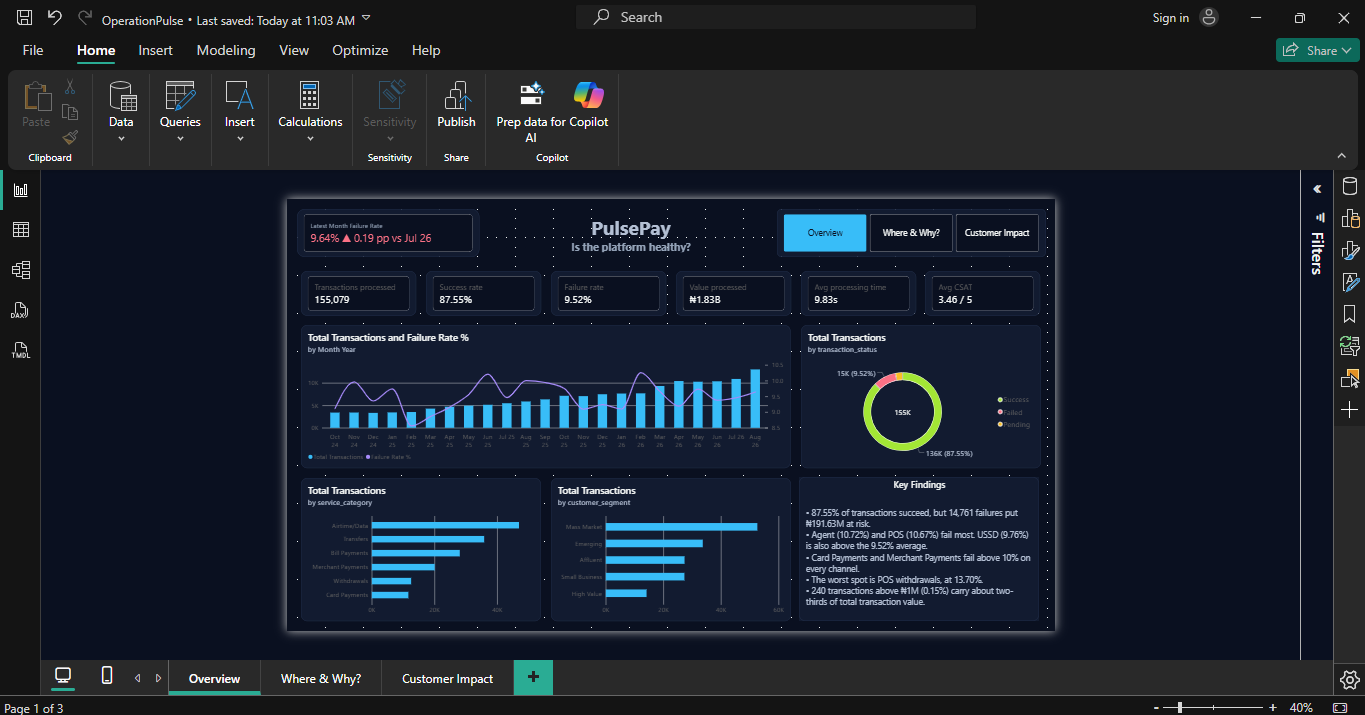

Layout of this report page (visuals, bound fields, positions):
{"tool":"powerbi","page":{"name":"Overview","canvas":[1920,1080],"ordinal":0},"visuals":[{"type":"cardVisual","fields":{"Data":["transactions.Transactions processed"]},"box":[36,180,288,112],"z":0},{"type":"cardVisual","fields":{"Data":["transactions.Success rate"]},"box":[348,180,288,112],"z":1000},{"type":"textbox","title":"Key Findings","box":[1280,695,600,360],"z":1000,"group":"g1"},{"type":"cardVisual","fields":{"Data":["transactions.Failure rate"]},"box":[660,180,288,112],"z":2000},{"type":"cardVisual","fields":{"Data":["transactions.Value processed"]},"box":[972,180,288,112],"z":3000},{"type":"cardVisual","fields":{"Data":["transactions.Avg processing time"]},"box":[1284,180,288,112],"z":4000},{"type":"cardVisual","fields":{"Data":["support_interactions.Avg CSAT"]},"box":[1596,180,288,112],"z":5000},{"type":"lineClusteredColumnComboChart","fields":{"Category":["Dim_Date.Month Year"],"Y":["transactions.Total Transactions"],"Y2":["transactions.Failure Rate %"]},"box":[36,316,1224,358],"z":6000},{"type":"donutChart","fields":{"Category":["transactions.transaction_status"],"Y":["transactions.Total Transactions"]},"box":[1284,316,600,358],"z":7000},{"type":"clusteredBarChart","fields":{"Category":["services.service_category"],"Y":["transactions.Total Transactions"]},"box":[36,698,600,358],"z":8000},{"type":"clusteredBarChart","title":"Total Transactions","fields":{"Category":["customers.customer_segment"],"Y":["transactions.Total Transactions"]},"box":[660,698,600,358],"z":9000},{"type":"group","id":"g1","title":"Group 1","box":[1280,695,600,360],"z":10000},{"type":"textbox","box":[264,24,1200,120],"z":11000},{"type":"pageNavigator","box":[1224,24,672,120],"z":12000},{"type":"cardVisual","fields":{"Data":["transactions.Failure Headline"]},"box":[24,24,456,120],"z":13000}]}

Visuals, with their boxes on the page's 1920x1080 design canvas (x1, y1, x2, y2). These are canvas units, not pixel positions in the 1365x715 screenshot, which may show the page scaled, cropped or inside an application window:
cardVisual - transactions.Transactions processed: [36,180,324,292]
cardVisual - transactions.Success rate: [348,180,636,292]
"Key Findings" textbox: [1280,695,1880,1055]
cardVisual - transactions.Failure rate: [660,180,948,292]
cardVisual - transactions.Value processed: [972,180,1260,292]
cardVisual - transactions.Avg processing time: [1284,180,1572,292]
cardVisual - support_interactions.Avg CSAT: [1596,180,1884,292]
lineClusteredColumnComboChart - Dim_Date.Month Year x transactions.Total Transactions: [36,316,1260,674]
donutChart - transactions.transaction_status x transactions.Total Transactions: [1284,316,1884,674]
clusteredBarChart - services.service_category x transactions.Total Transactions: [36,698,636,1056]
"Total Transactions" clusteredBarChart: [660,698,1260,1056]
"Group 1" group: [1280,695,1880,1055]
textbox: [264,24,1464,144]
pageNavigator: [1224,24,1896,144]
cardVisual - transactions.Failure Headline: [24,24,480,144]
